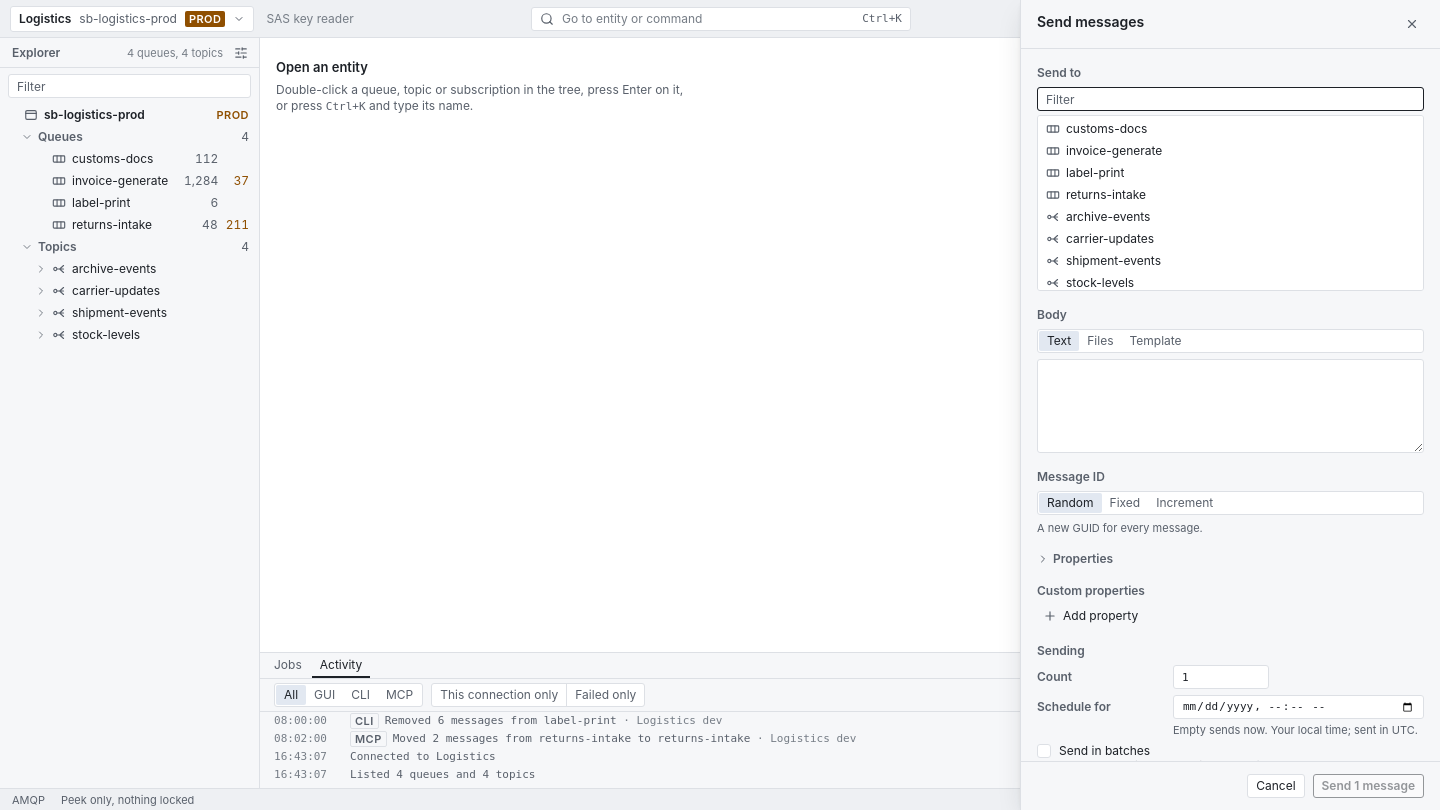
Scenario: operation sheets after review › a pristine composer without an entity shows no error, only a disabled Send
The image size is (1440, 810).
Check: the button "Send 1 message" is disabled, box [1313,774,1424,798]
Note: The target is picked from the namespace, not typed blind.
Click the option "label-print" at {"x": 1085, "y": 172}, box [1046,165,1124,180]
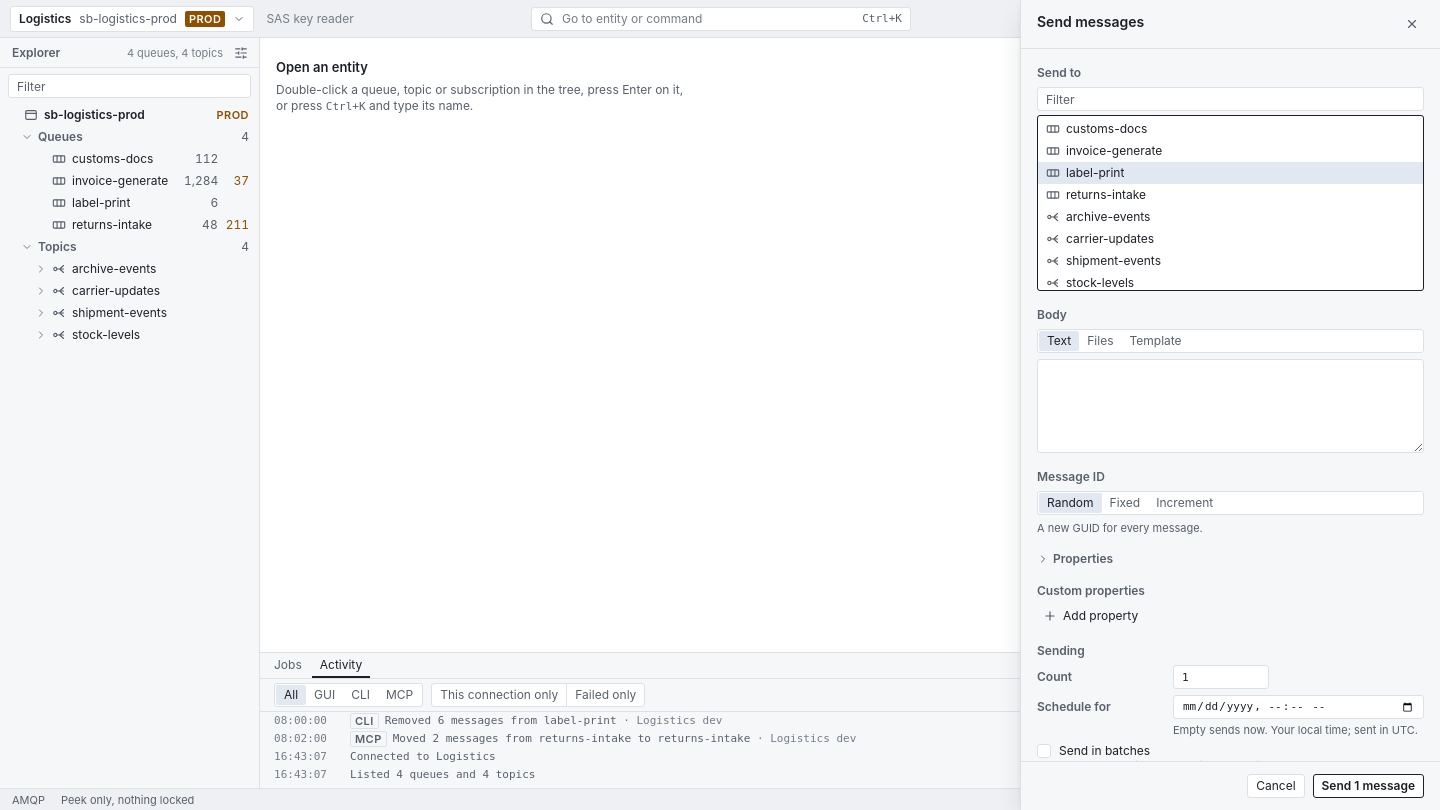
Check: the button "Send 1 message" is enabled, box [1313,774,1424,798]
